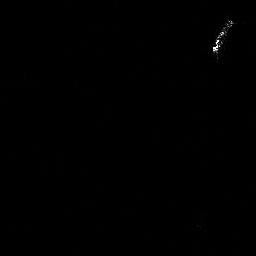ship: (211, 17, 235, 56)
